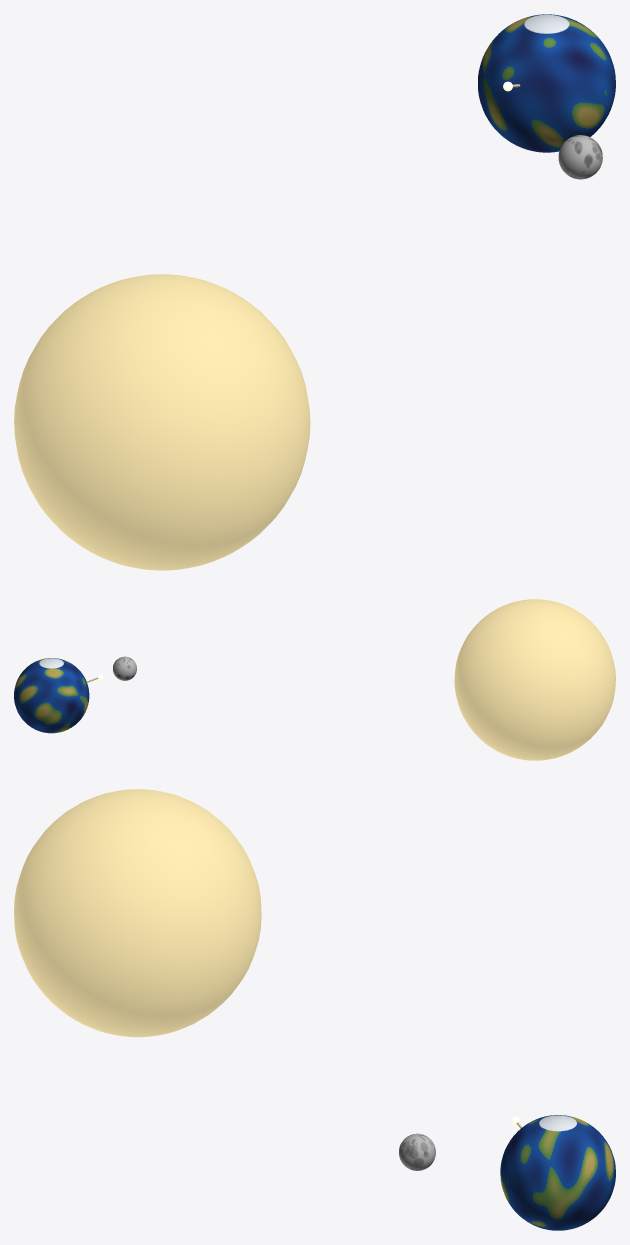
File: clock.glb
3 renders of one model, top to bottom at view 1: azimuth 30°, elevation 25°; view 2: azimuth 150°, elevation 25°; view 3: azimuth 270°, elevation 25°, orthographic. The views are drawn at different scales.
Bounding box in the file's own units: 0.5757 × 0.1795 × 0.4354.
5 materials, 2 textured.
